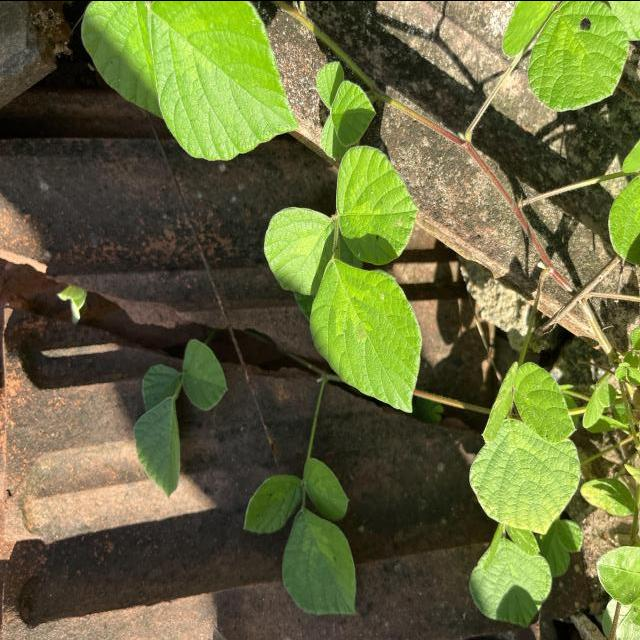Pseudarthria viscida: (262, 142, 423, 416), (242, 455, 358, 616), (132, 337, 229, 498), (316, 59, 378, 160)
